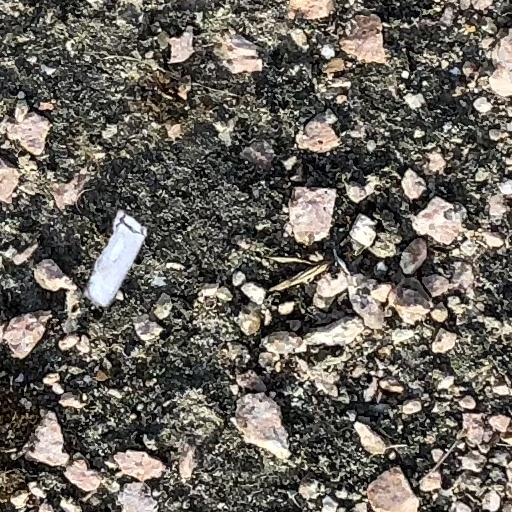smoke: (85, 211, 146, 306)
